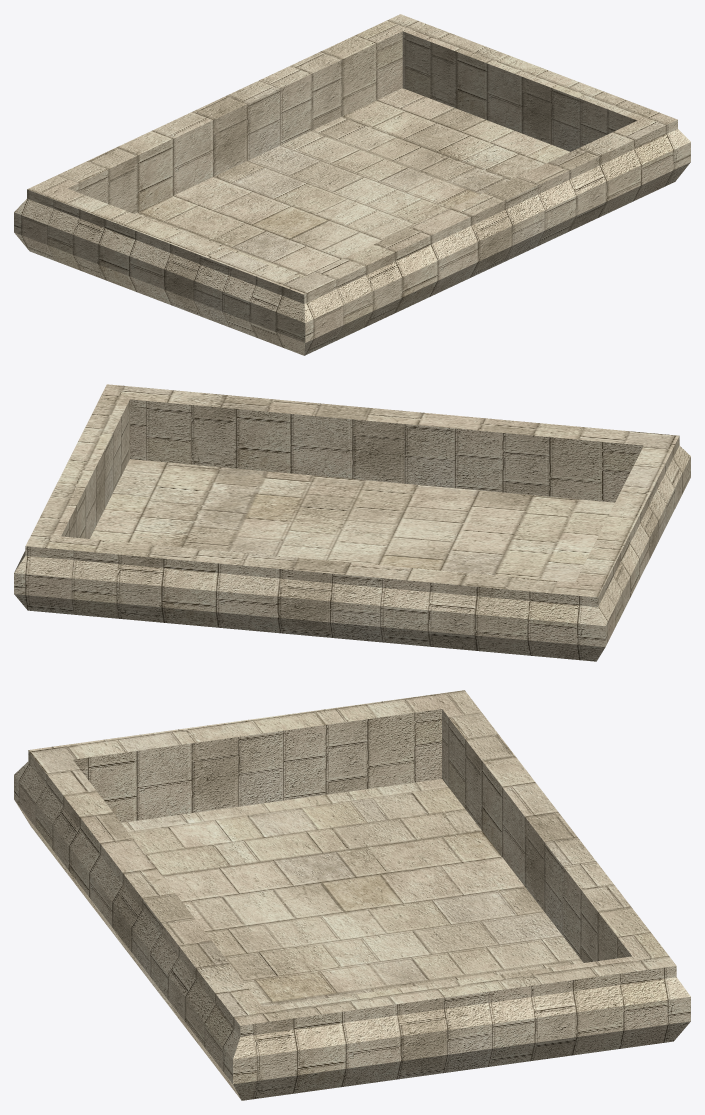
Rendered from walls_127.fbx.
3 views of the same model, one above another, from view 1: azimuth 30°, elevation 25°; view 2: azimuth 150°, elevation 25°; view 3: azimuth 270°, elevation 25° (orthographic). The views are drawn at different scales.
Parts seen in each view (by area): view 1: walls_127; view 2: walls_127; view 3: walls_127.
Boxes of the visible parts, <box> form: walls_127: <box>14,14,690,355</box>; walls_127: <box>14,384,690,661</box>; walls_127: <box>14,690,690,1100</box>.
Size of the model in its own units: 373 by 38.16 by 307.
